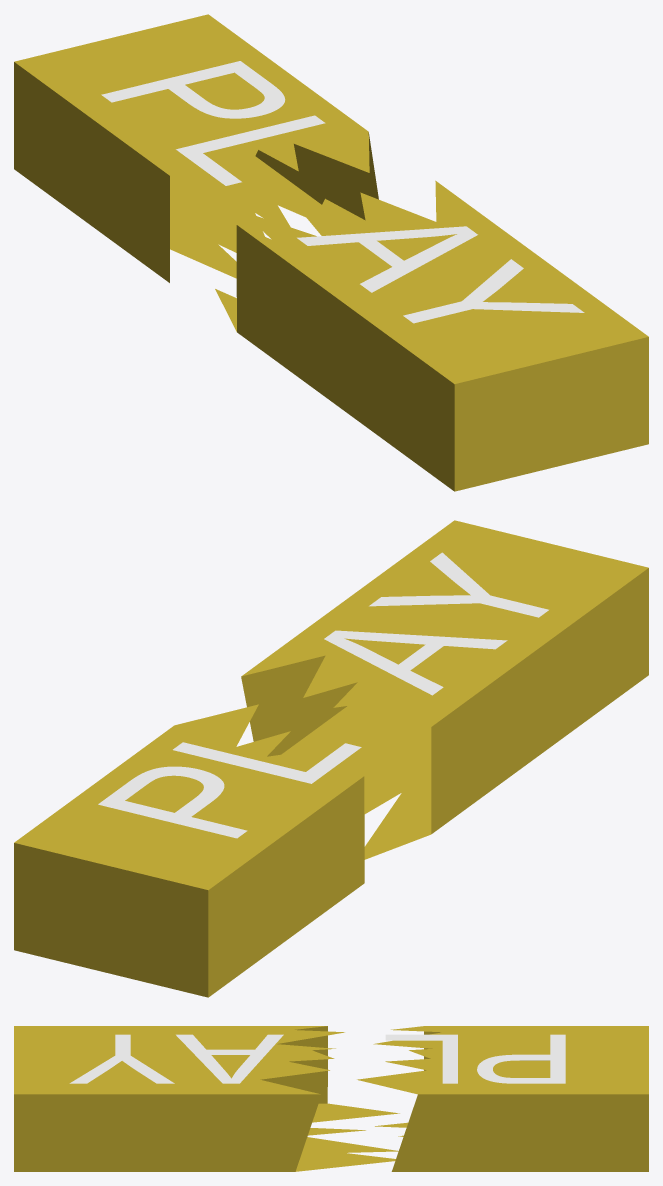
Rendered from play button.fbx.
3 views of the same model, one above another, from view 1: azimuth 30°, elevation 25°; view 2: azimuth 150°, elevation 25°; view 3: azimuth 270°, elevation 25° (orthographic). The views are drawn at different scales.
Visible parts, largest first — view 1: Box001; view 2: Box001; view 3: Box001.
Boxes of the visible parts, x1=… form: Box001: x1=14, y1=14, x2=648, y2=491; Box001: x1=14, y1=520, x2=648, y2=997; Box001: x1=14, y1=1026, x2=648, y2=1171.
Size of the model in its own units: 25.94 by 13.98 by 102.
